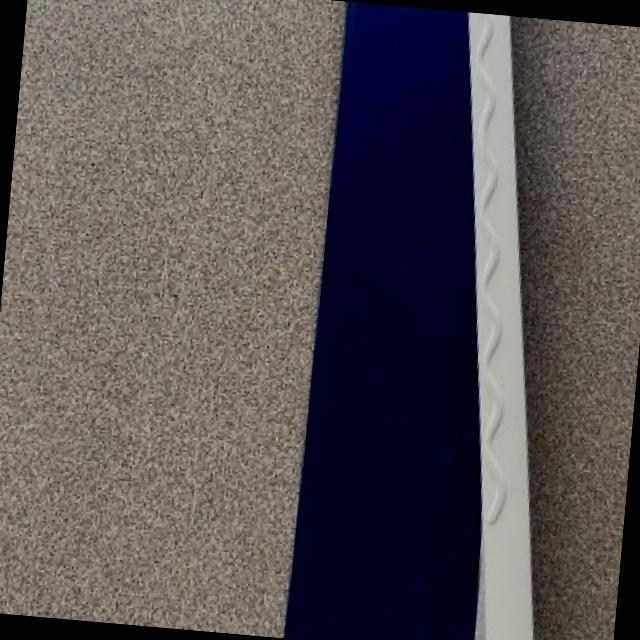healthy: (288, 1, 534, 640)
